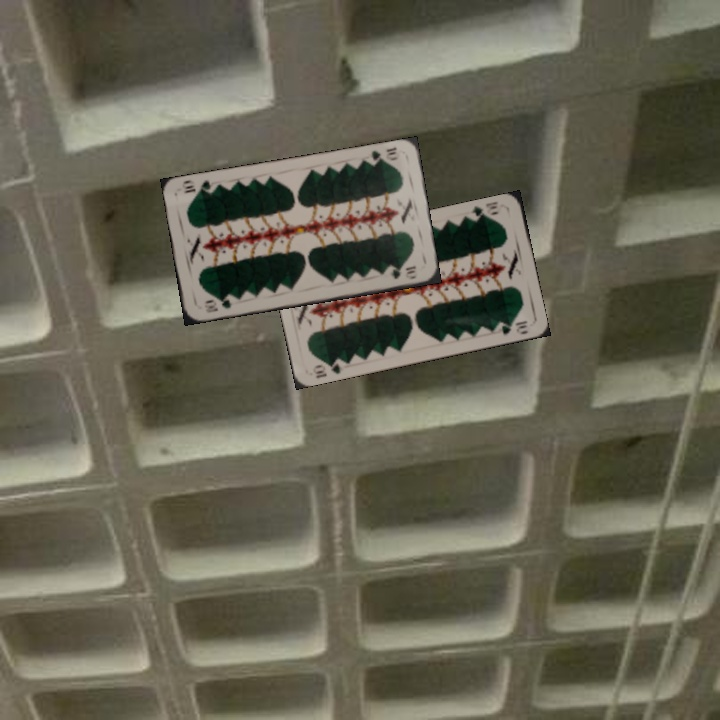G10: (309, 355, 347, 380), (363, 143, 400, 167), (467, 198, 501, 223), (201, 294, 235, 315)
